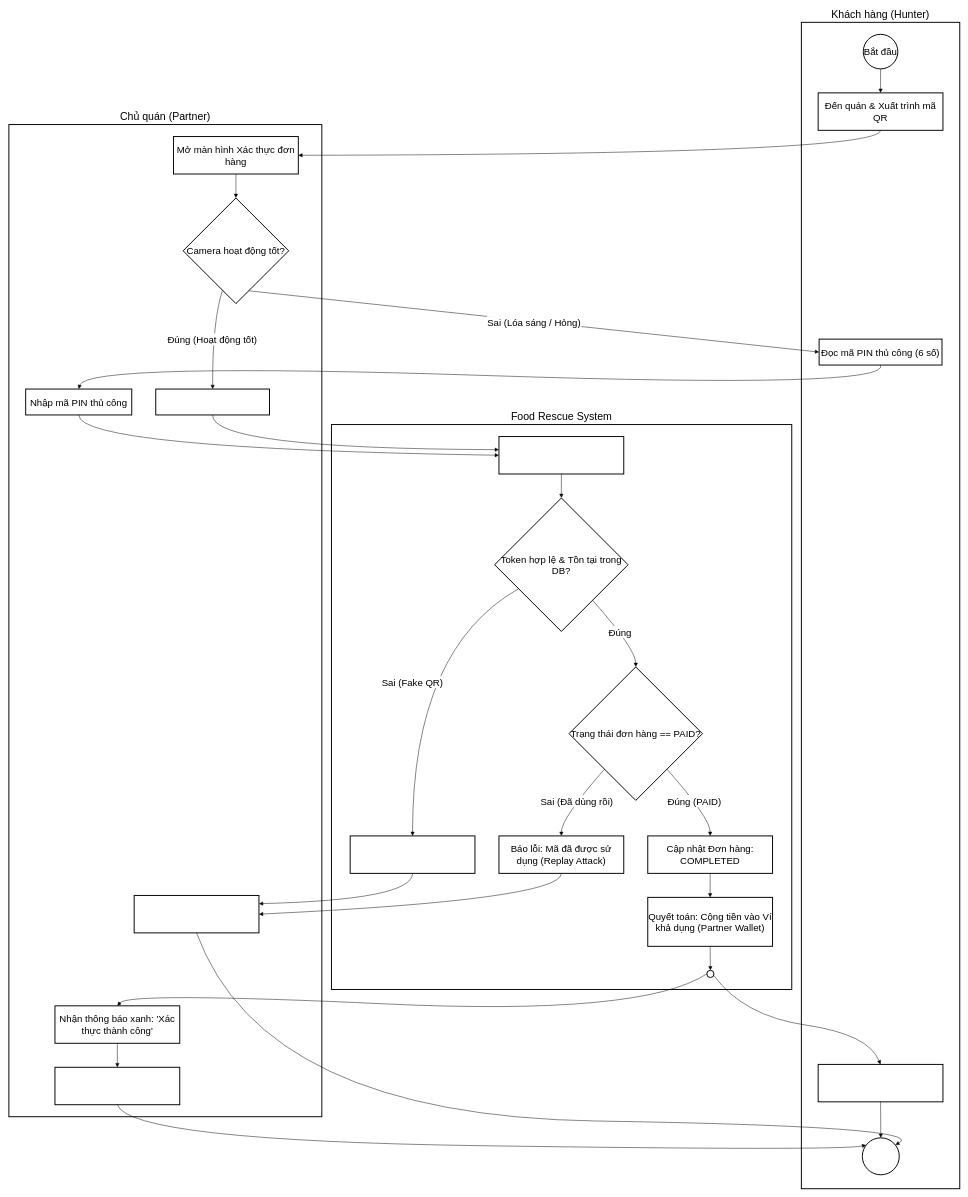
The diagram is 968 pixels wide and 1197 high, and some of its shapes have lost their labels. The centre of each missing label's shape, as x and y in pixels:
"Báo lỗi: Mã QR giả mạo / Không tồn tại" goes at point 412,854.
"Giao Hộp mù cho Khách hàng" goes at point 117,1086.
"Giải mã Token & Gửi Request lên Server" goes at point 561,455.
"Kết thúc" goes at point 881,1156.
"Nhận cảnh báo đỏ: 'Lỗi xác thực' & Từ chối giao" goes at point 196,914.
"Nhận thông báo: 'Chúc ngon miệng'" goes at point 880,1083.
"Đưa Camera quét mã QR" goes at point 212,401.
